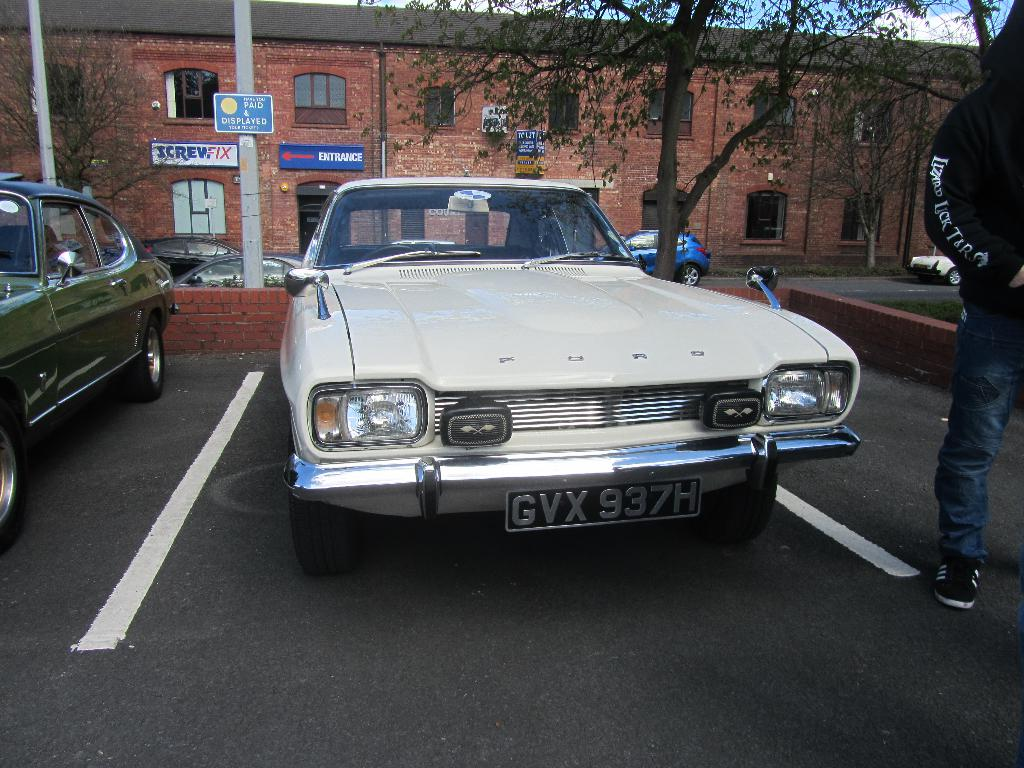Car: (0, 167, 863, 570), (908, 256, 960, 288)
